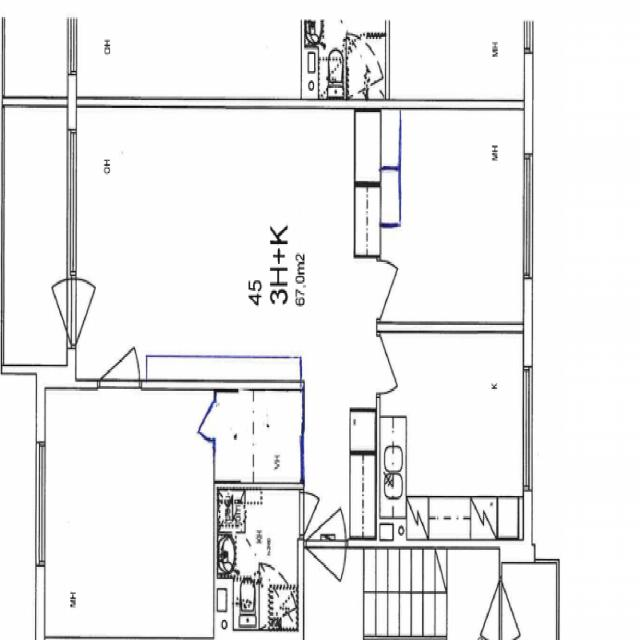door: (28, 280, 76, 344), (67, 280, 115, 344), (306, 473, 346, 547), (306, 539, 346, 613), (99, 316, 139, 389), (376, 260, 416, 318), (376, 334, 416, 392), (298, 491, 330, 535), (190, 401, 218, 439)
